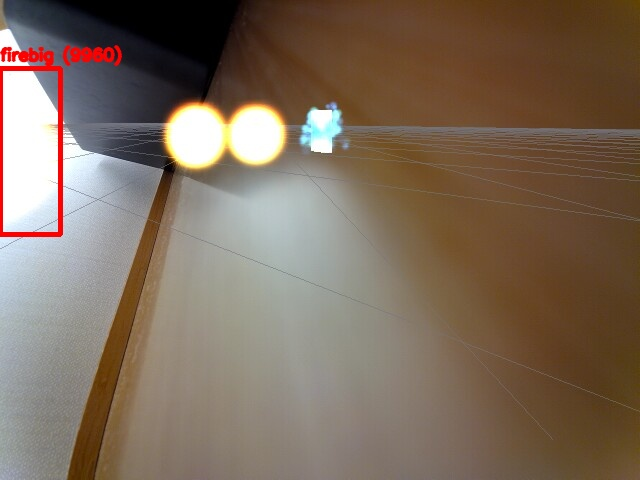firebig: (0, 68, 60, 234)
